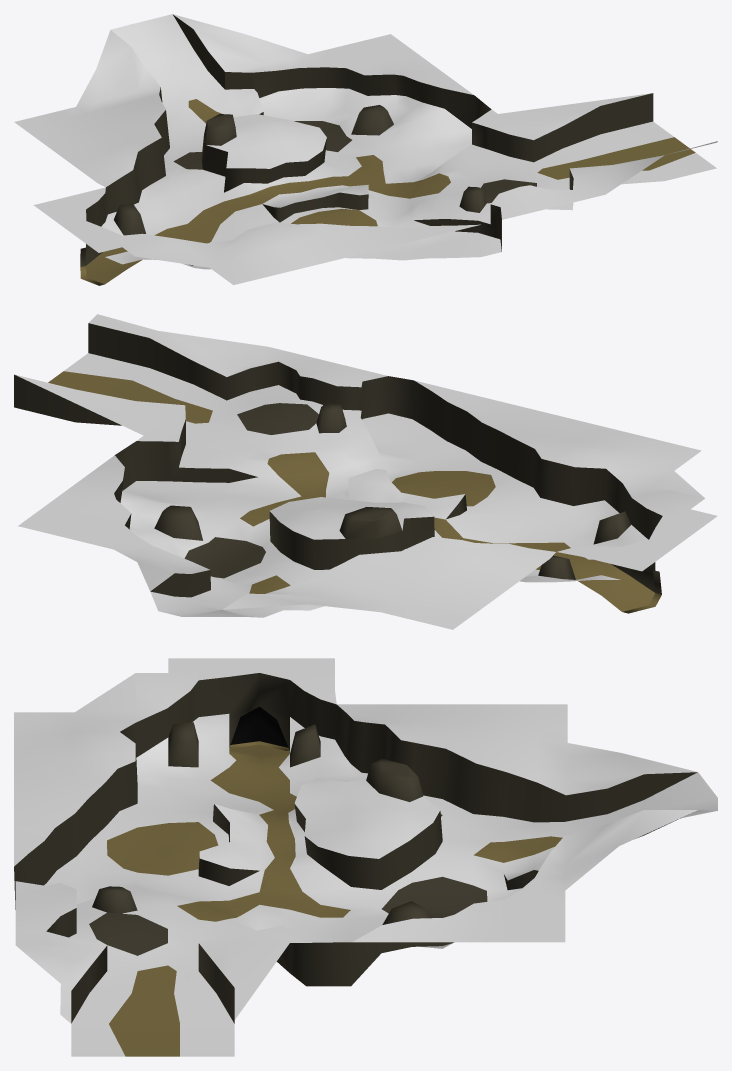
The model's file is map_forest.fbx.
3 renders of one model, top to bottom at view 1: azimuth 30°, elevation 25°; view 2: azimuth 150°, elevation 25°; view 3: azimuth 270°, elevation 25°, orthographic. The views are drawn at different scales.
Parts seen in each view (by area): view 1: ground; view 2: ground; view 3: ground.
Part boxes in pixels (bbox=[...]): ground: bbox=[14, 14, 717, 285]; ground: bbox=[14, 314, 717, 629]; ground: bbox=[14, 658, 717, 1056].
Bounding box in the file's own units: 73013 × 8992 × 60101.
